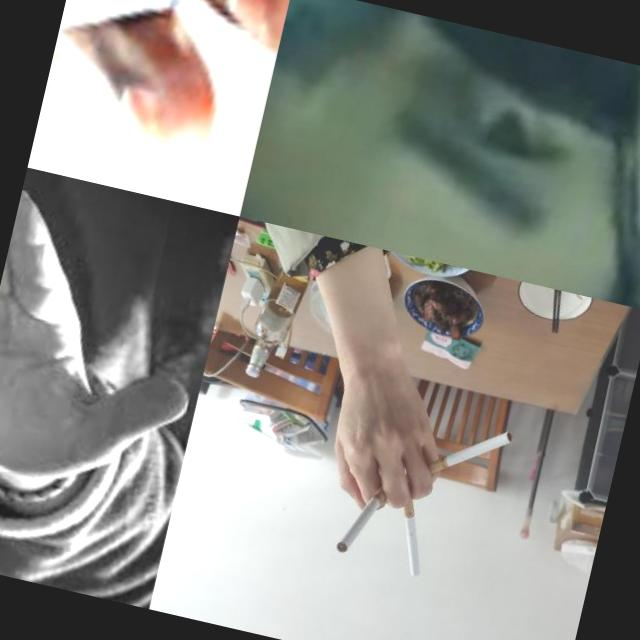cigarette: (45, 0, 292, 134), (422, 414, 514, 491), (381, 482, 438, 578), (333, 476, 392, 562)
